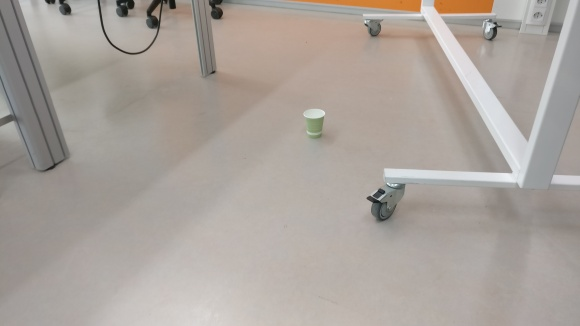cup: (301, 105, 325, 138)
